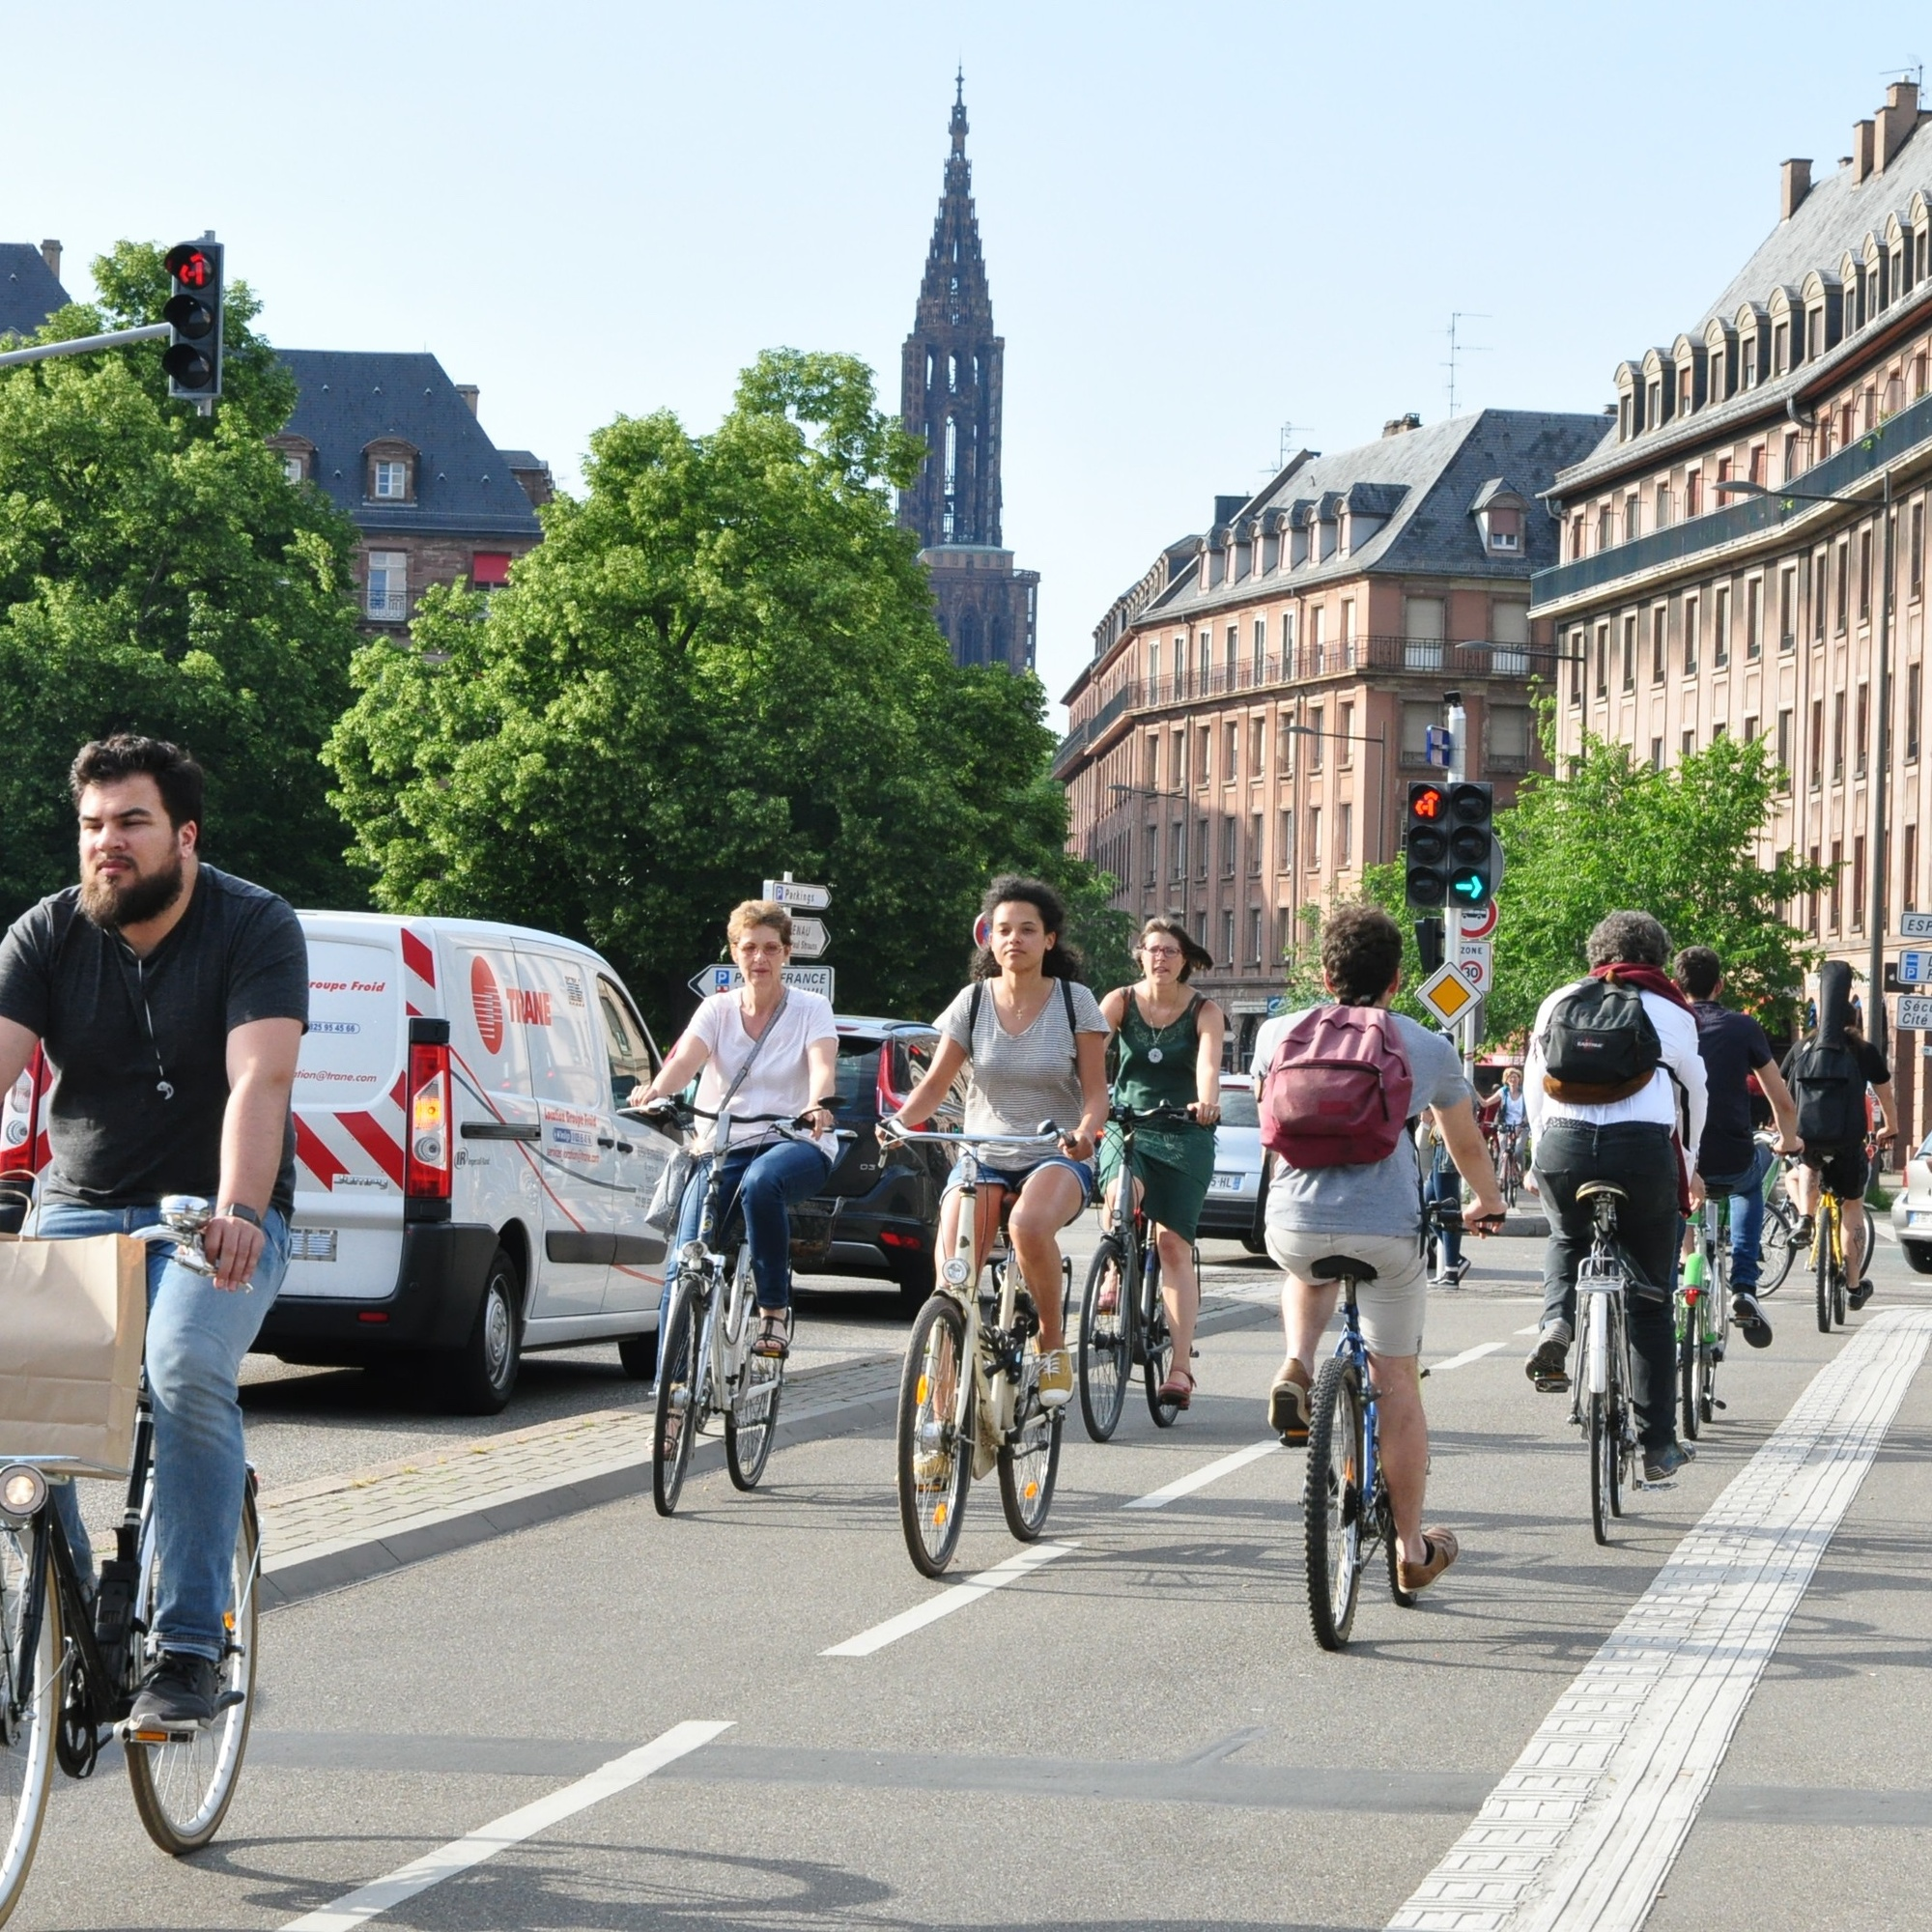commuter: (2, 736, 313, 1932), (867, 885, 1116, 1587), (1244, 908, 1477, 1654), (623, 904, 842, 1522), (1518, 913, 1700, 1548), (1663, 955, 1794, 1438), (1099, 918, 1217, 1438)
